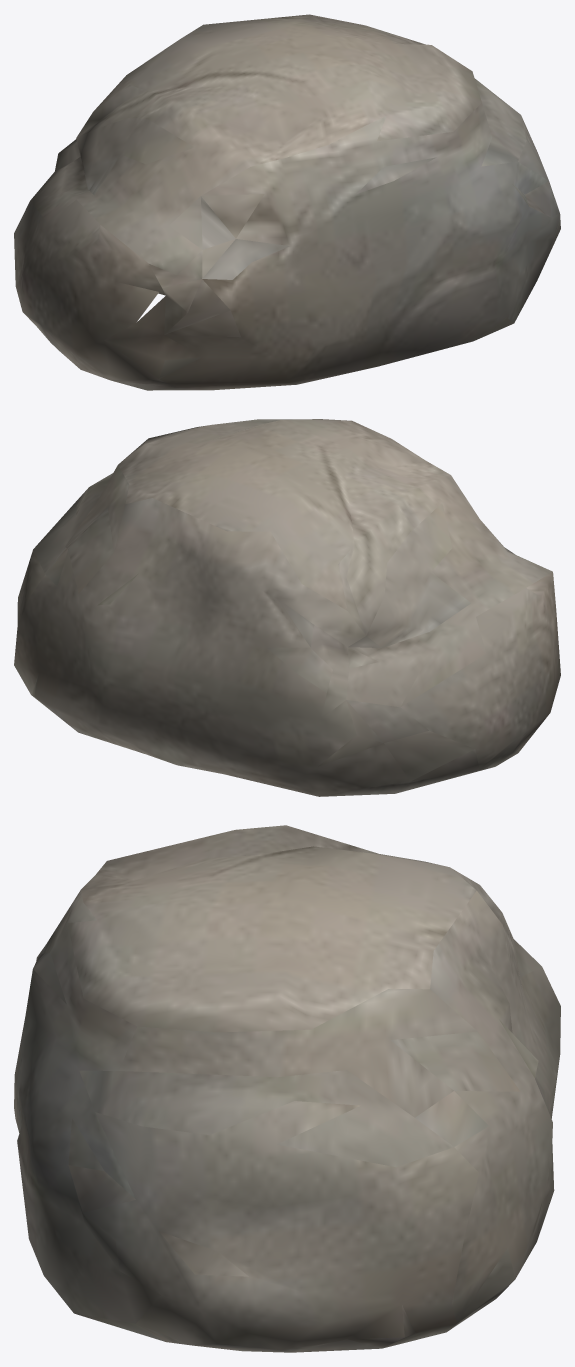
The model's file is rock_small.gltf.
3 renders of one model, top to bottom at view 1: azimuth 30°, elevation 25°; view 2: azimuth 150°, elevation 25°; view 3: azimuth 270°, elevation 25°, orthographic. The views are drawn at different scales.
Parts seen in each view (by area): view 1: rock_small; view 2: rock_small; view 3: rock_small.
Boxes of the visible parts, x1,y1,x2,y2 form: rock_small: (14,14,560,390); rock_small: (14,419,560,796); rock_small: (14,825,560,1352).
Size of the model in its own units: 0.8 by 0.4043 by 0.5763.
Materials: 1 (1 with a texture image).
